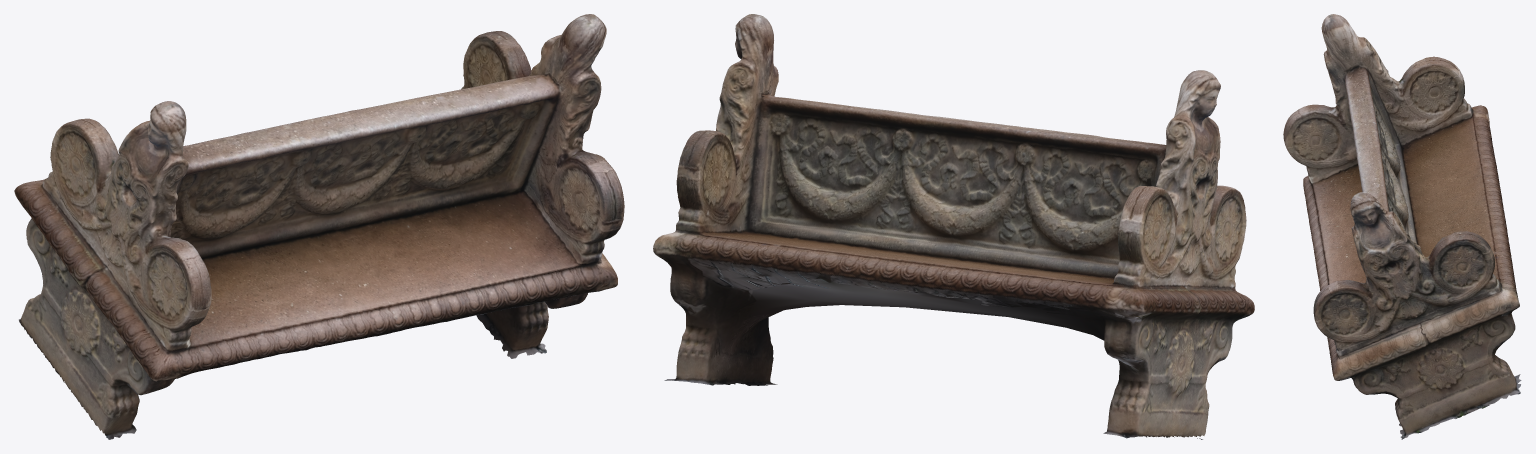
Rendered from bench.glb.
3 views of the same model, side by side, from view 1: azimuth 30°, elevation 25°; view 2: azimuth 150°, elevation 25°; view 3: azimuth 270°, elevation 25° (orthographic). The views are drawn at different scales.
Parts seen in each view (by area): view 1: Object_4; view 2: Object_4; view 3: Object_4.
Boxes of the visible parts, bbox=[...] form: Object_4: bbox=[14, 14, 624, 439]; Object_4: bbox=[653, 14, 1254, 439]; Object_4: bbox=[1283, 14, 1521, 439].
Size of the model in its own units: 1.59 by 1.17 by 0.9136.
Materials: 1 (1 with a texture image).
